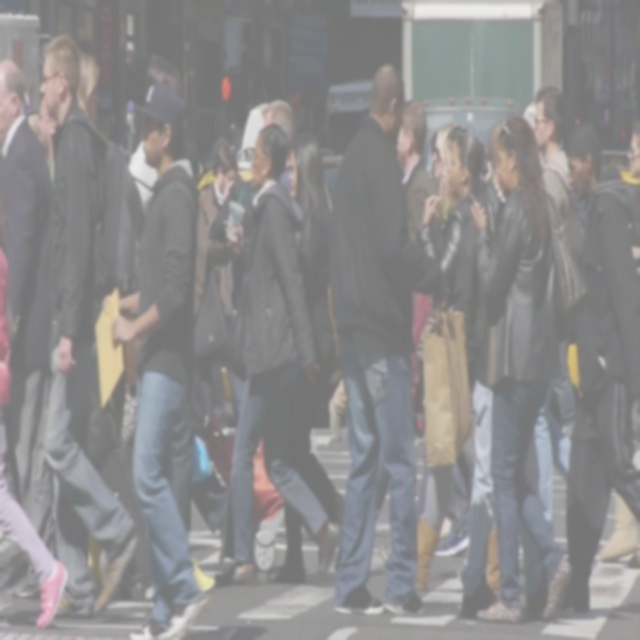pessoa: (326, 60, 452, 619), (90, 79, 206, 638), (212, 120, 344, 590), (38, 33, 140, 620), (470, 115, 576, 624), (548, 119, 640, 616), (468, 117, 563, 592), (414, 125, 502, 591), (264, 125, 346, 583), (403, 120, 486, 523), (0, 61, 54, 599), (419, 128, 484, 558), (532, 84, 580, 544), (116, 61, 202, 218), (192, 144, 240, 324), (395, 95, 442, 258), (98, 600, 284, 639), (615, 120, 639, 275), (260, 99, 296, 198), (34, 94, 58, 185), (76, 54, 100, 125), (522, 100, 536, 128)
